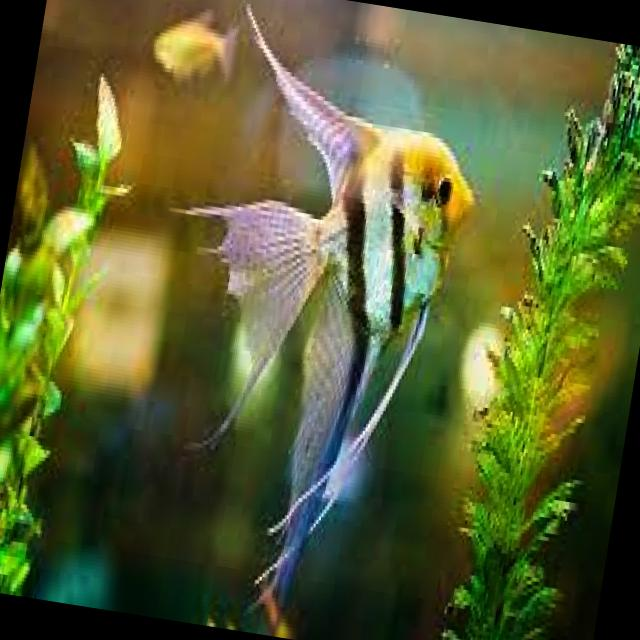AngelFish: (153, 9, 502, 622)
